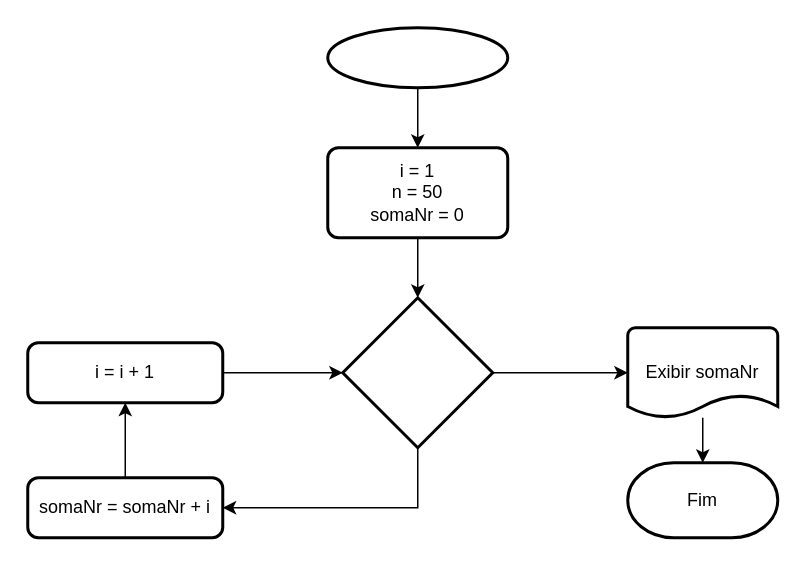
Some shapes in this 804 by 564 pixel diagram are drawn without their labels. The shapes that lost their labels are listed below. From the top down, each one's box as (x1, y1, x2, y2) in pixels, then its label:
(326, 26, 508, 88): Início
(340, 296, 494, 448): i > n
